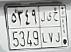9: (31, 7, 40, 47)
J: (53, 11, 61, 44)
L: (40, 11, 48, 44)
V: (46, 12, 54, 44)
